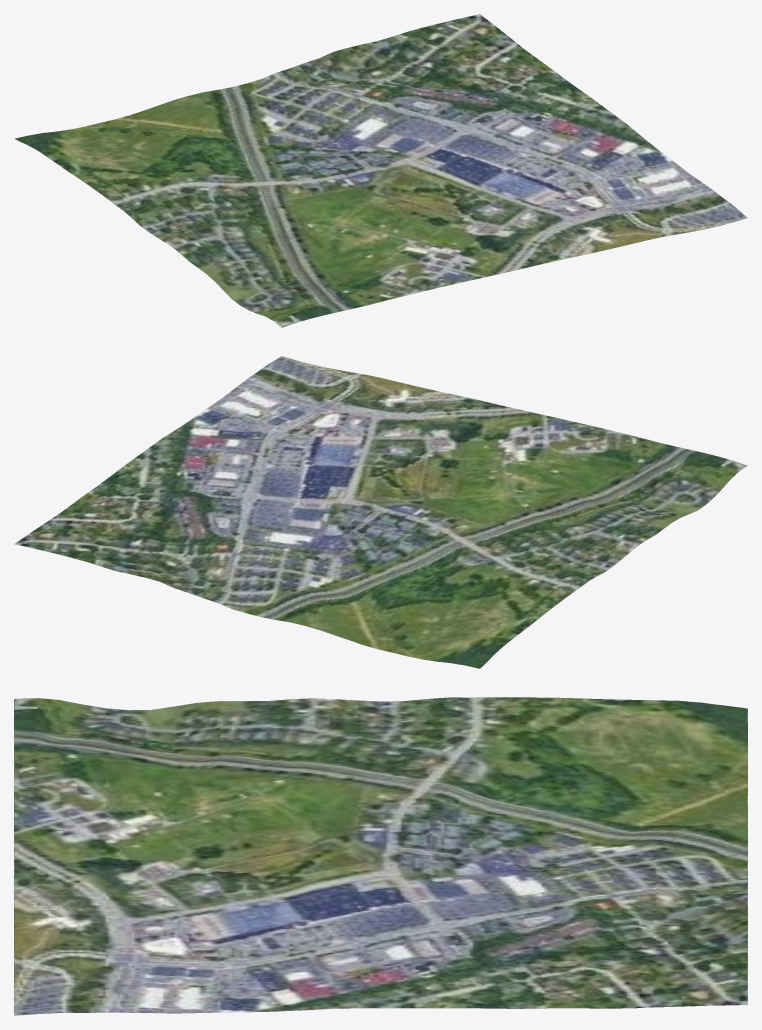
The picture shows the model from 3 angles, top to bottom: view 1: azimuth 30°, elevation 25°; view 2: azimuth 150°, elevation 25°; view 3: azimuth 270°, elevation 25°; orthographic projection. The views are drawn at different scales.
Size of the model in its own units: 975 by 33.82 by 971.
1 material, 1 textured.
